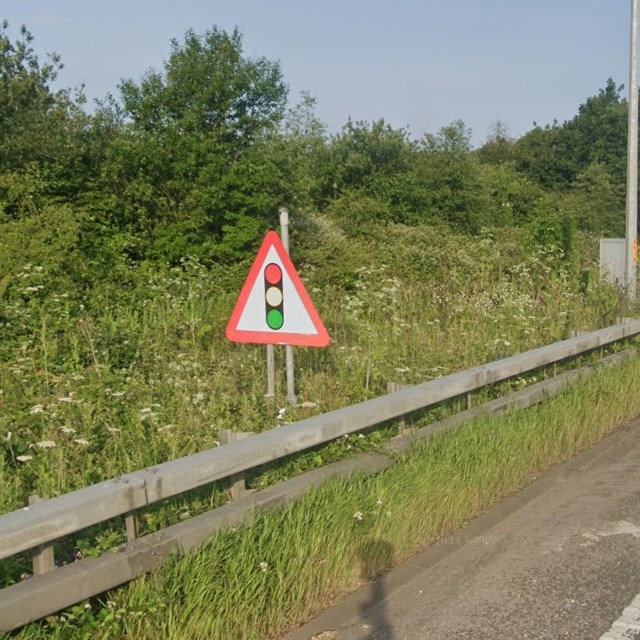Traffic lights: (221, 229, 334, 349)
